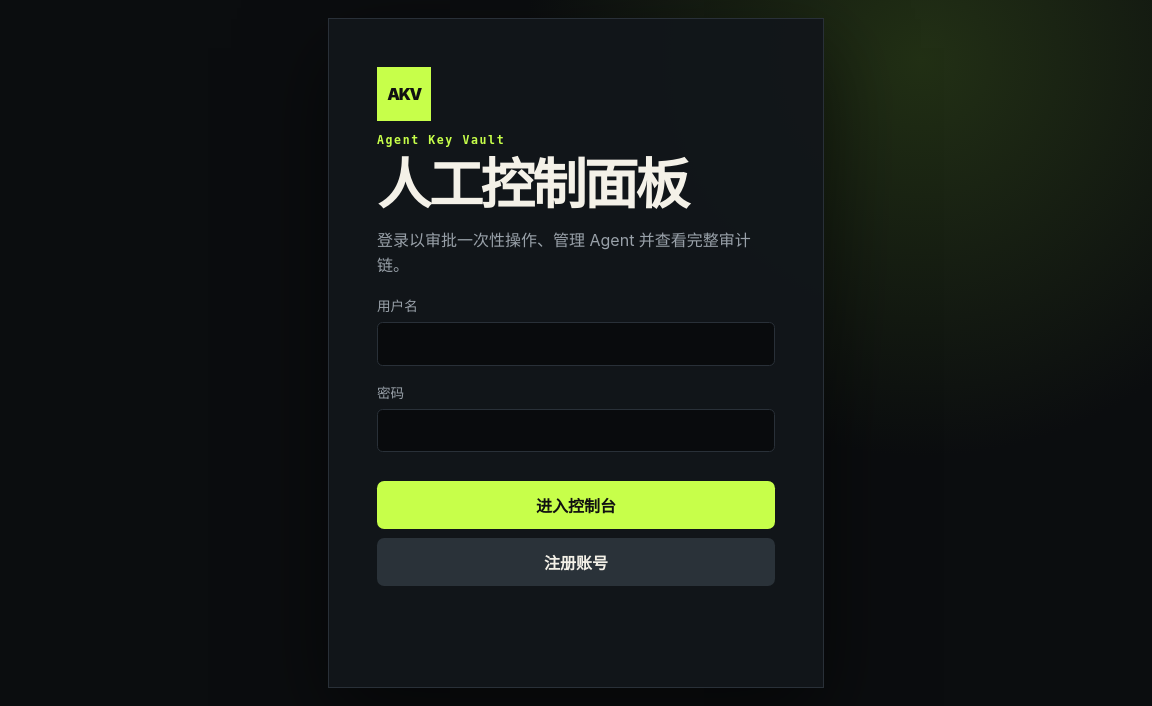
Test: authentication view transition › keeps the registration form open when the username is unavailable
Click the button with class "auth-switch" at (576, 562), box [377,538,775,586]
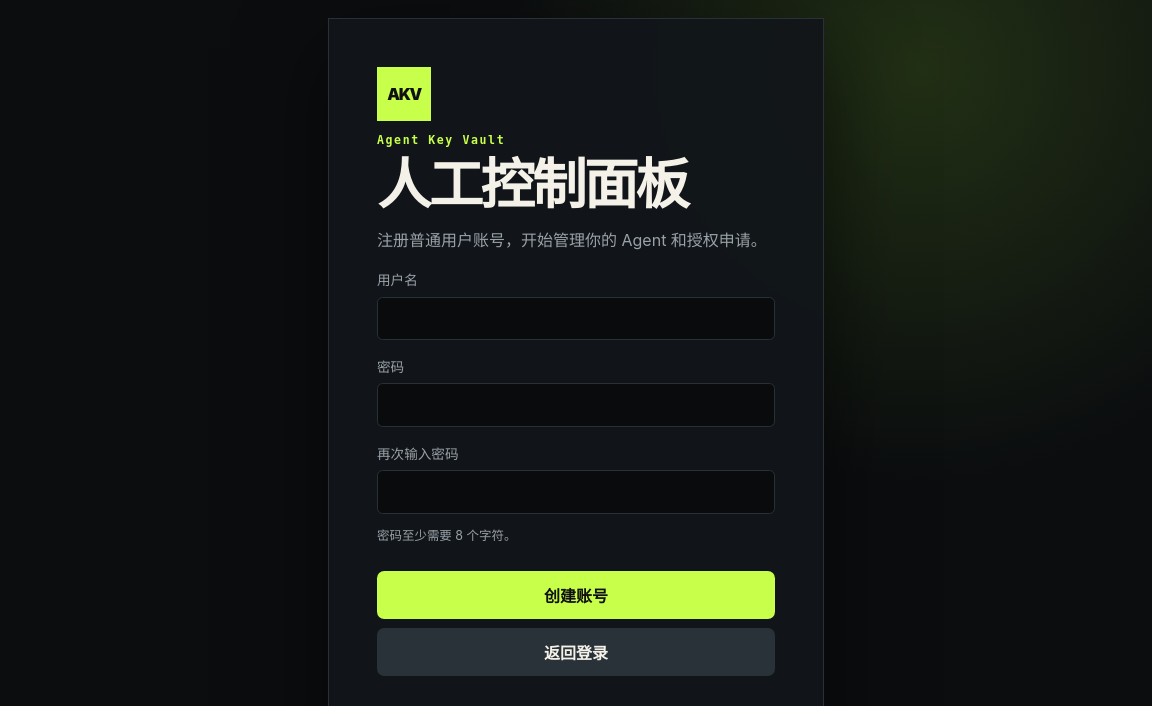
Type "existing-user" into the field named "username" at (576, 318), box [377,296,775,340]
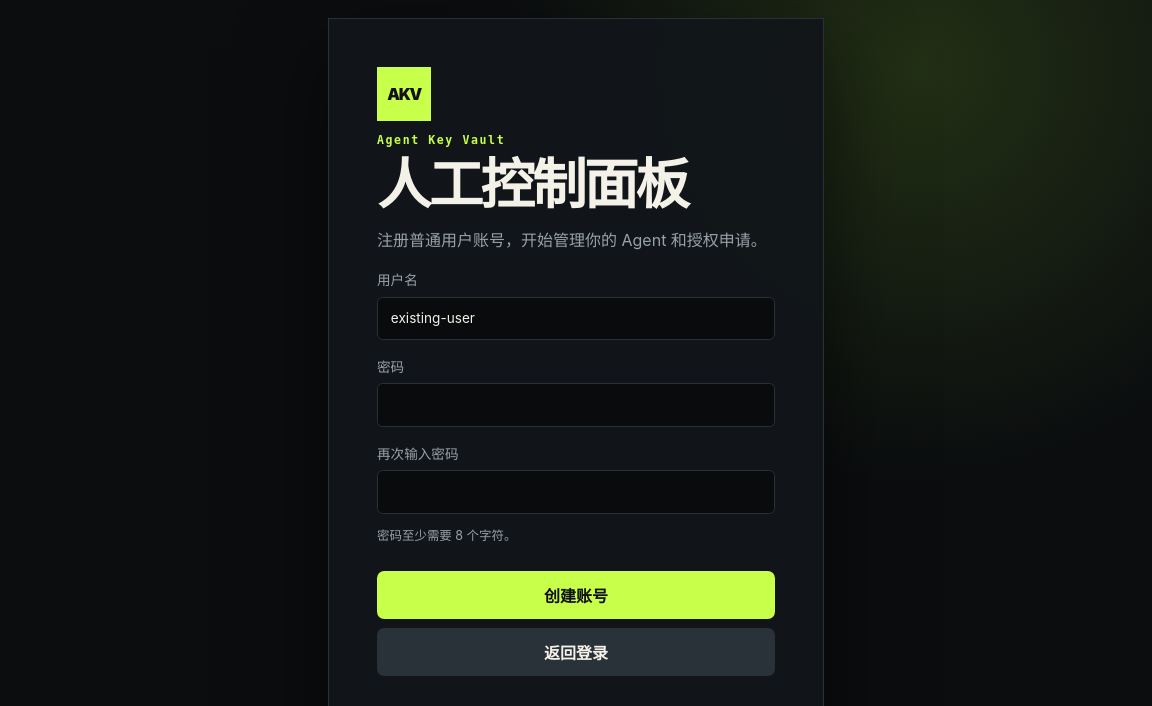
Type "safe-password" into the password field named "password" at (576, 405), box [377,383,775,427]
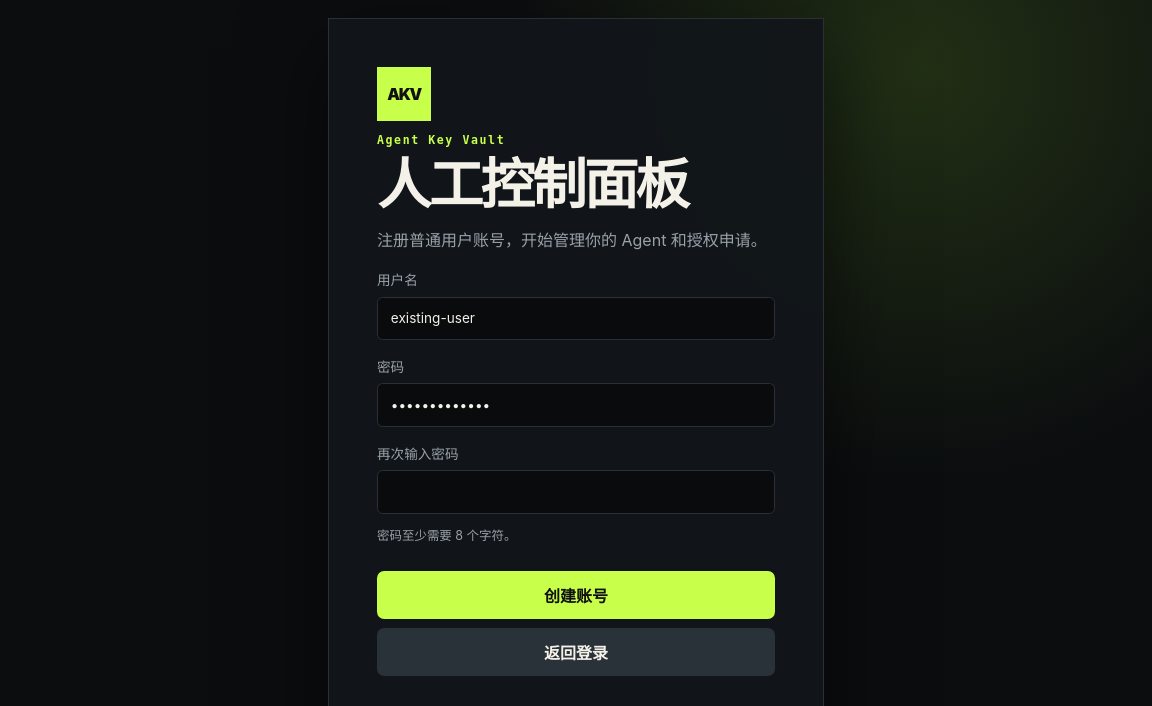
Type "safe-password" into the password field named "password_confirmation" at (576, 492), box [377,470,775,514]
(page scrolled)
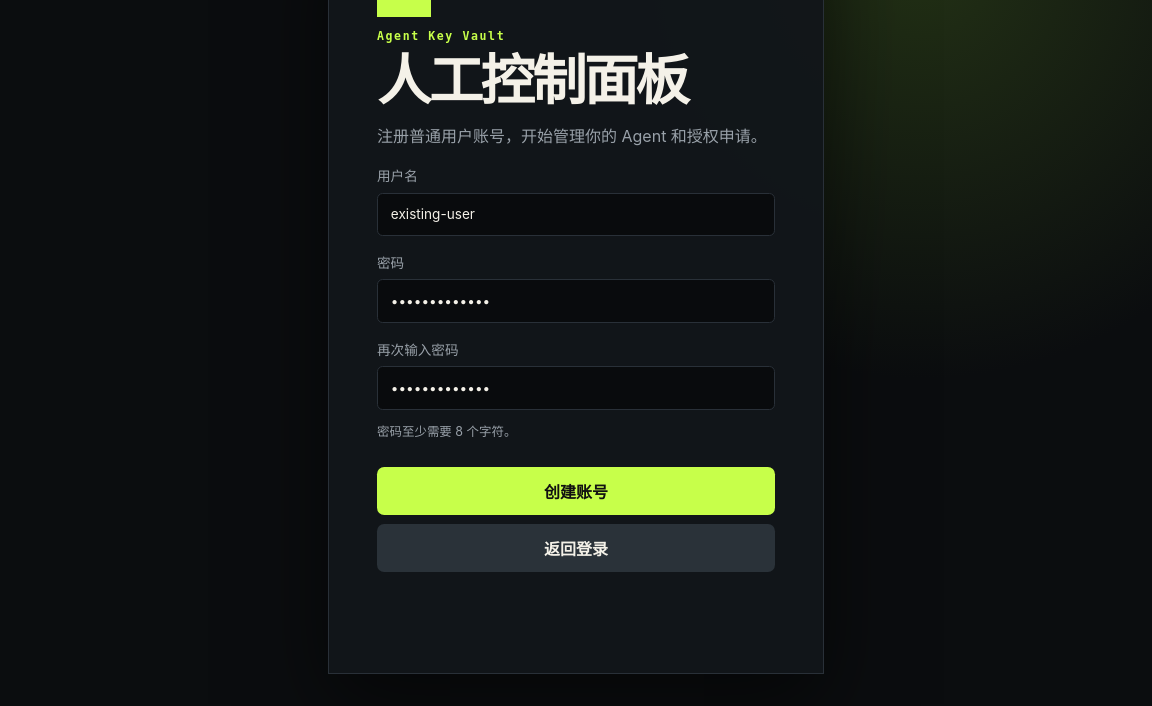
Submit the form, box [377,165,775,609]
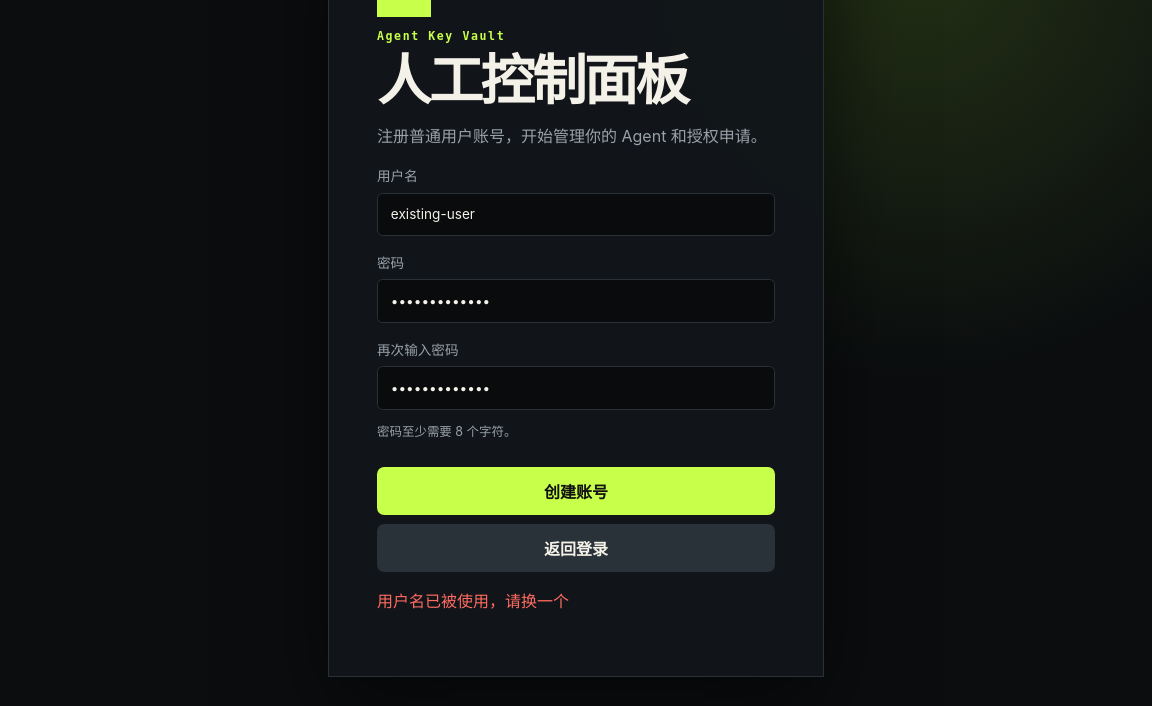
Expected: the submit button is enabled, [377,467,775,515]
Result: the message "用户名已被使用，请换一个" is shown at [377,591,569,611]
